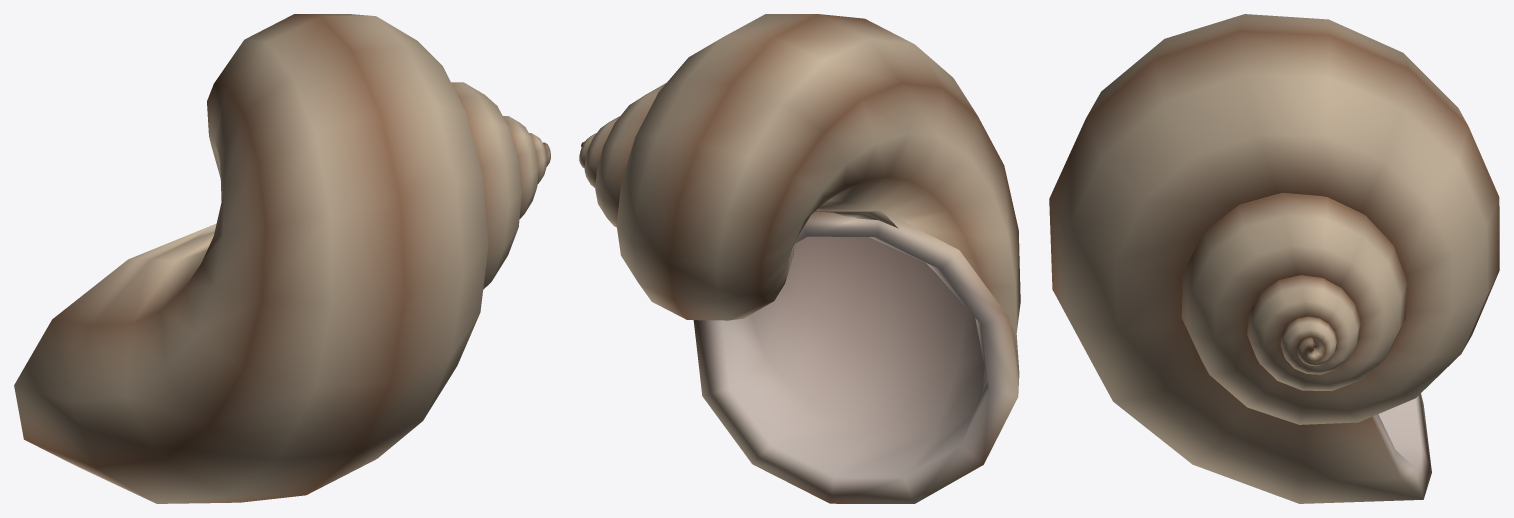
The model's file is Coast_Spiral.fbx.
3 renders of one model, left to right at view 1: azimuth 30°, elevation 25°; view 2: azimuth 150°, elevation 25°; view 3: azimuth 270°, elevation 25°, orthographic. The views are drawn at different scales.
Parts seen in each view (by area): view 1: Coast_Spiral; view 2: Coast_Spiral; view 3: Coast_Spiral.
Boxes of the visible parts, x1=… form: Coast_Spiral: x1=14, y1=14, x2=550, y2=503; Coast_Spiral: x1=579, y1=14, x2=1020, y2=503; Coast_Spiral: x1=1049, y1=14, x2=1499, y2=503.
Bounding box in the file's own units: 0.9362 × 0.7967 × 0.6562.
